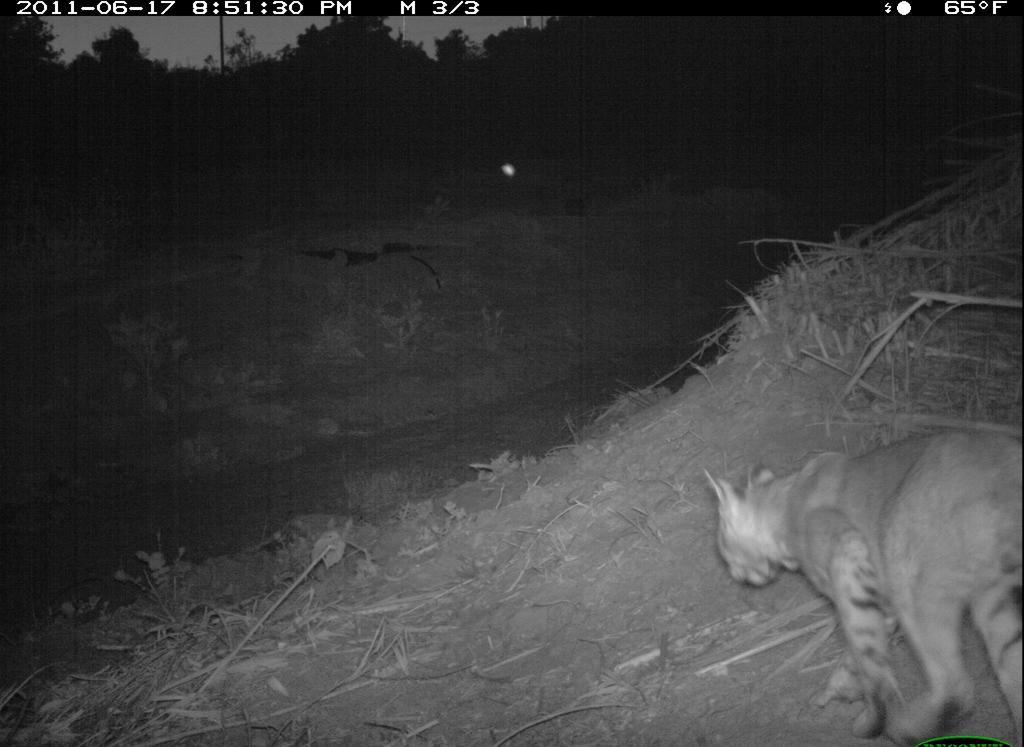bobcat: (696, 418, 1023, 739)
